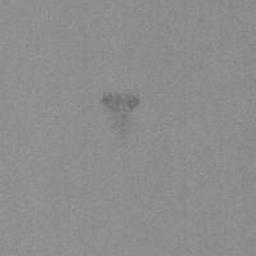Inclusion: (100, 92, 141, 139)
